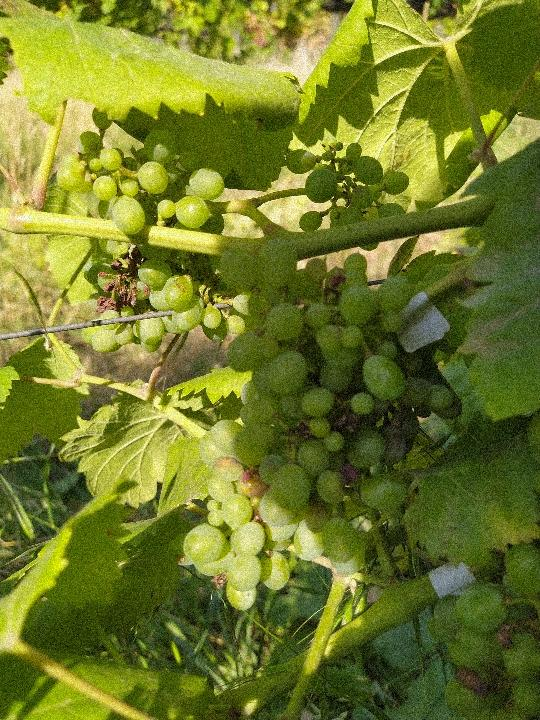grape: (178, 237, 464, 616), (55, 104, 226, 355), (286, 138, 411, 254)
